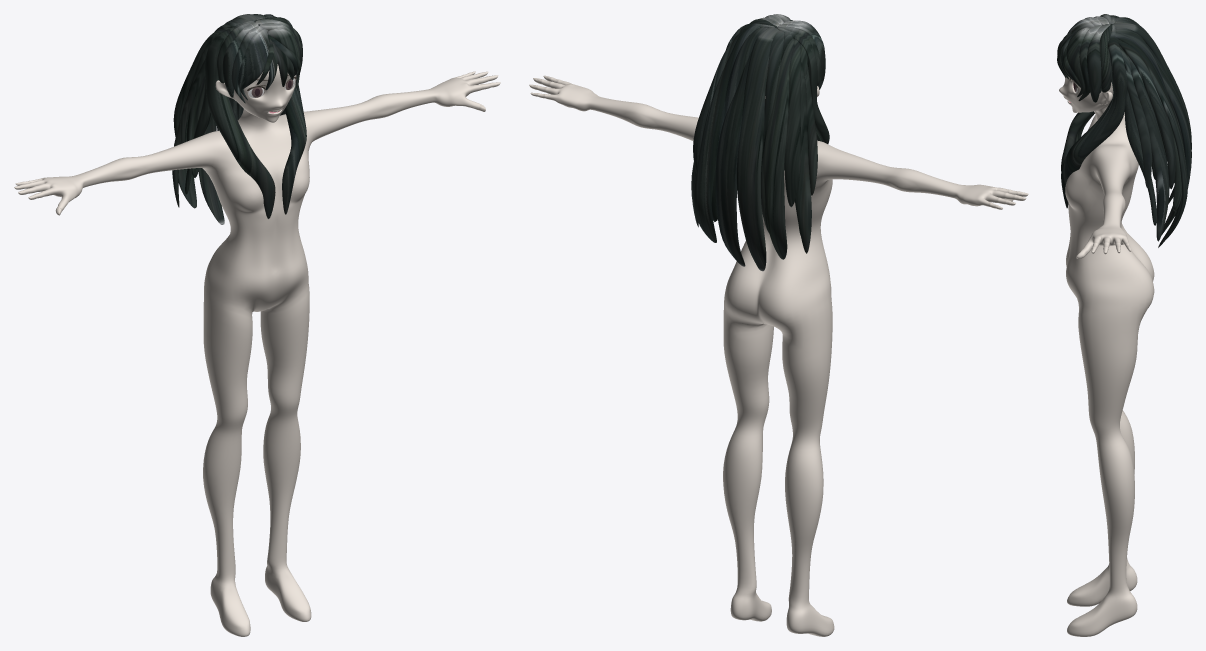
The model's file is TotoriChan.fbx.
3 renders of one model, left to right at view 1: azimuth 30°, elevation 25°; view 2: azimuth 150°, elevation 25°; view 3: azimuth 270°, elevation 25°, orthographic. The views are drawn at different scales.
Visible parts, largest first — view 1: Body, Hear; view 2: Body, Hear; view 3: Body, Hear.
Boxes of the visible parts, <box> form: Body: <box>14,64,500,636</box>; Hear: <box>172,14,306,224</box>; Body: <box>529,75,1028,636</box>; Hear: <box>691,14,829,271</box>; Body: <box>1059,75,1154,636</box>; Hear: <box>1057,14,1191,247</box>.
Bounding box in the file's own units: 84.4 × 99.83 × 20.45.
